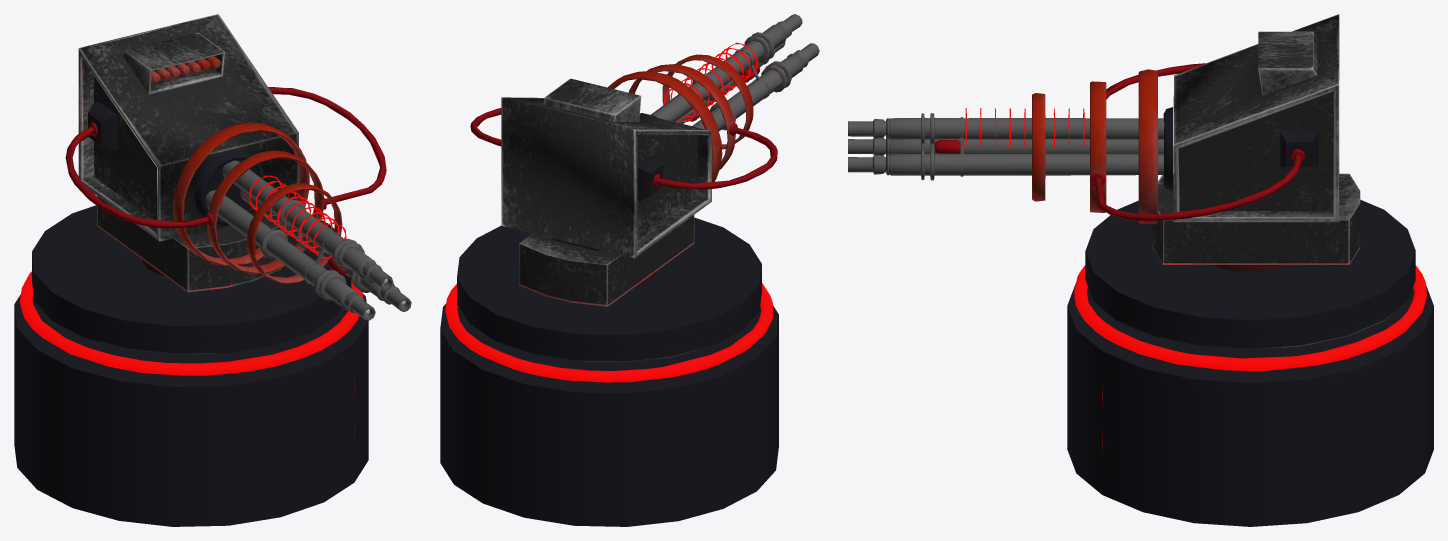
The model's file is turret.glb.
3 views of the same model, side by side, from view 1: azimuth 30°, elevation 25°; view 2: azimuth 150°, elevation 25°; view 3: azimuth 270°, elevation 25° (orthographic). The views are drawn at different scales.
Parts seen in each view (by area): view 1: turret_0; view 2: turret_0; view 3: turret_0.
Part boxes in pixels (x1,y1,x2,y2): turret_0: (14,14,411,526); turret_0: (440,14,819,526); turret_0: (848,14,1433,526).
Size of the model in its own units: 0.6257 by 0.7547 by 1.
1 material, 1 textured.
